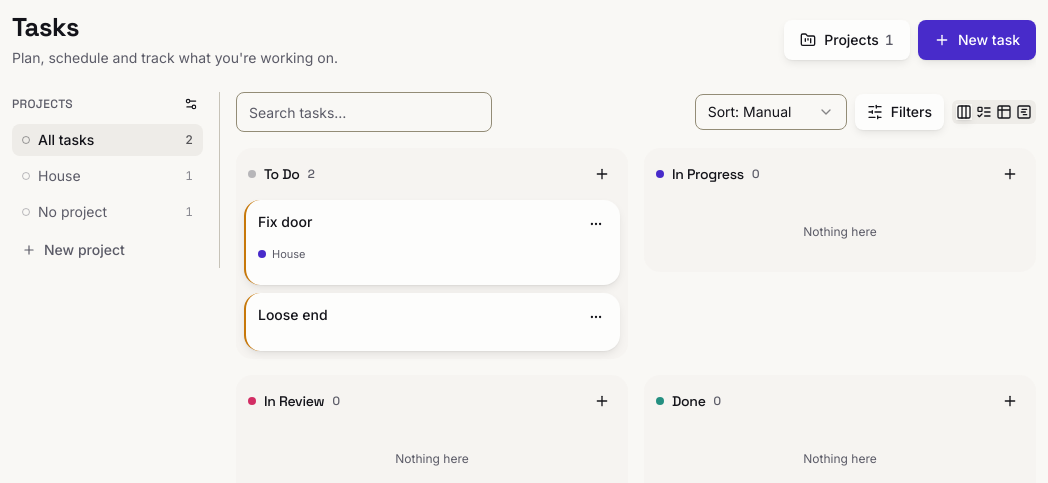
it: TasksPage › filters to a project from the rail
Click the button "House 1".
click(108, 176)  # box top-left (12, 160), bottom-right (203, 192)
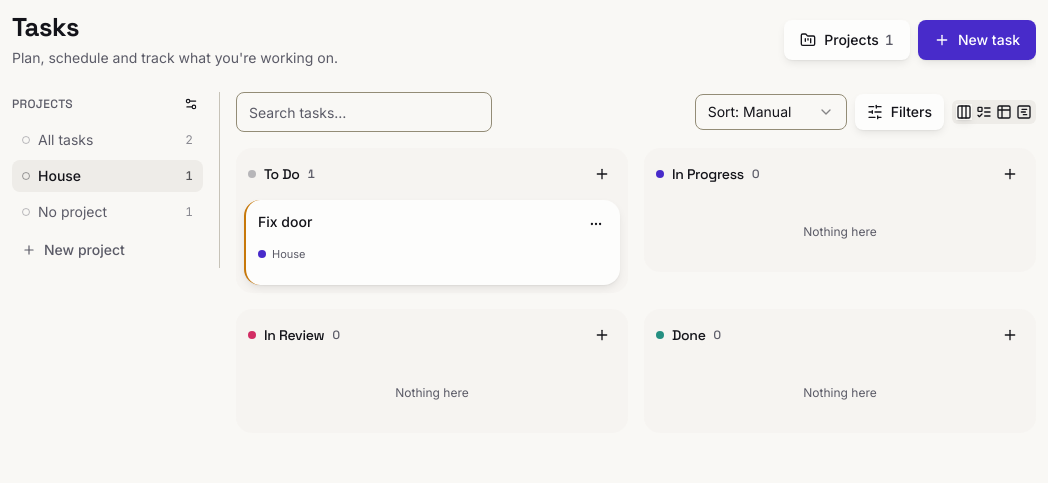
Expected: the button labelled "Fix door House" is shown, top-left (244, 200), bottom-right (620, 285)
Now the button labelled "Loose end" is gone
